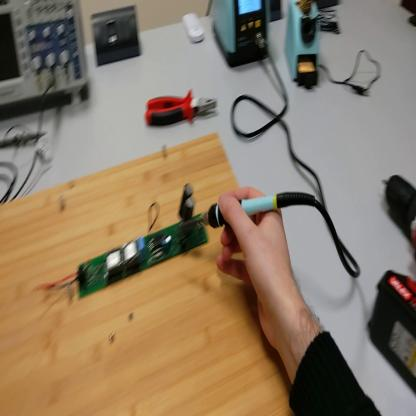electric screwdriver: (366, 171, 415, 394)
hand: (216, 185, 297, 344)
high voltage board: (38, 181, 214, 294)
oscilloscope: (2, 2, 87, 122)
oscilloscope probe tip: (2, 130, 47, 151)
pliers: (146, 89, 220, 126)
welder base: (285, 2, 322, 94)
welder probe tip: (177, 195, 317, 236)
welder station: (213, 2, 272, 71)
working area: (2, 135, 293, 416)
